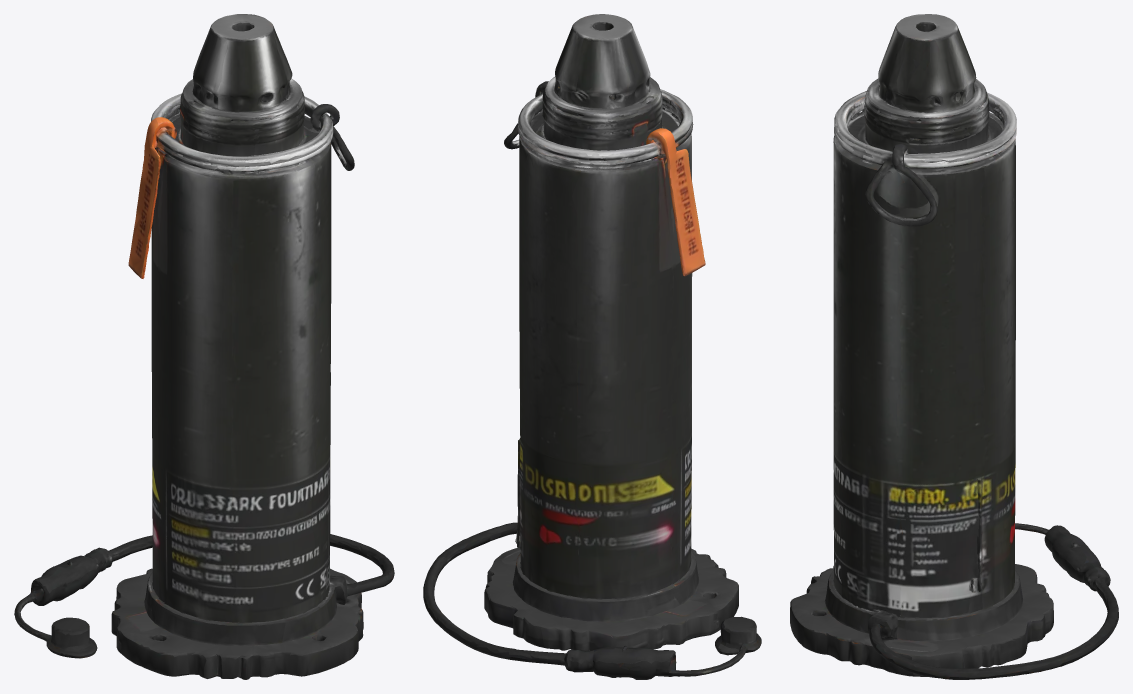
The model's file is aholo-20261119-cold-fountain.glb.
3 renders of one model, left to right at view 1: azimuth 30°, elevation 25°; view 2: azimuth 150°, elevation 25°; view 3: azimuth 270°, elevation 25°, orthographic. The views are drawn at different scales.
Visible parts, largest first — view 1: geometry_0; view 2: geometry_0; view 3: geometry_0.
Part boxes in pixels (x1,y1,x2,y2): geometry_0: (14, 14, 394, 679); geometry_0: (423, 14, 761, 679); geometry_0: (790, 14, 1118, 679).
Bounding box in the file's own units: 0.1858 × 0.32 × 0.1595.
Materials: 1 (1 with a texture image).
